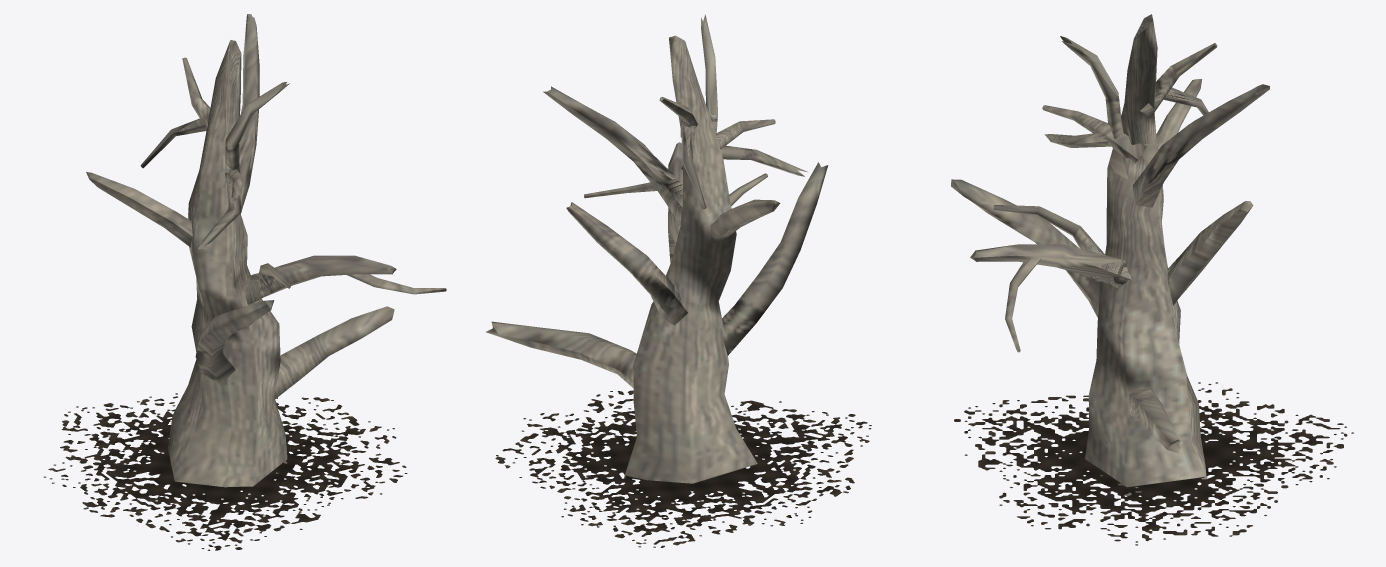
Rendered from bush_juniper_dead.glb.
3 views of the same model, side by side, from view 1: azimuth 30°, elevation 25°; view 2: azimuth 150°, elevation 25°; view 3: azimuth 270°, elevation 25° (orthographic). The views are drawn at different scales.
Parts seen in each view (by area): view 1: bush_juniper_dead; view 2: bush_juniper_dead; view 3: bush_juniper_dead.
Part boxes in pixels (bbox=[...]): bush_juniper_dead: bbox=[43, 14, 446, 550]; bush_juniper_dead: bbox=[486, 14, 871, 547]; bush_juniper_dead: bbox=[951, 14, 1353, 545].
Size of the model in its own units: 0.867 by 0.975 by 0.858.
2 materials, 2 textured.
